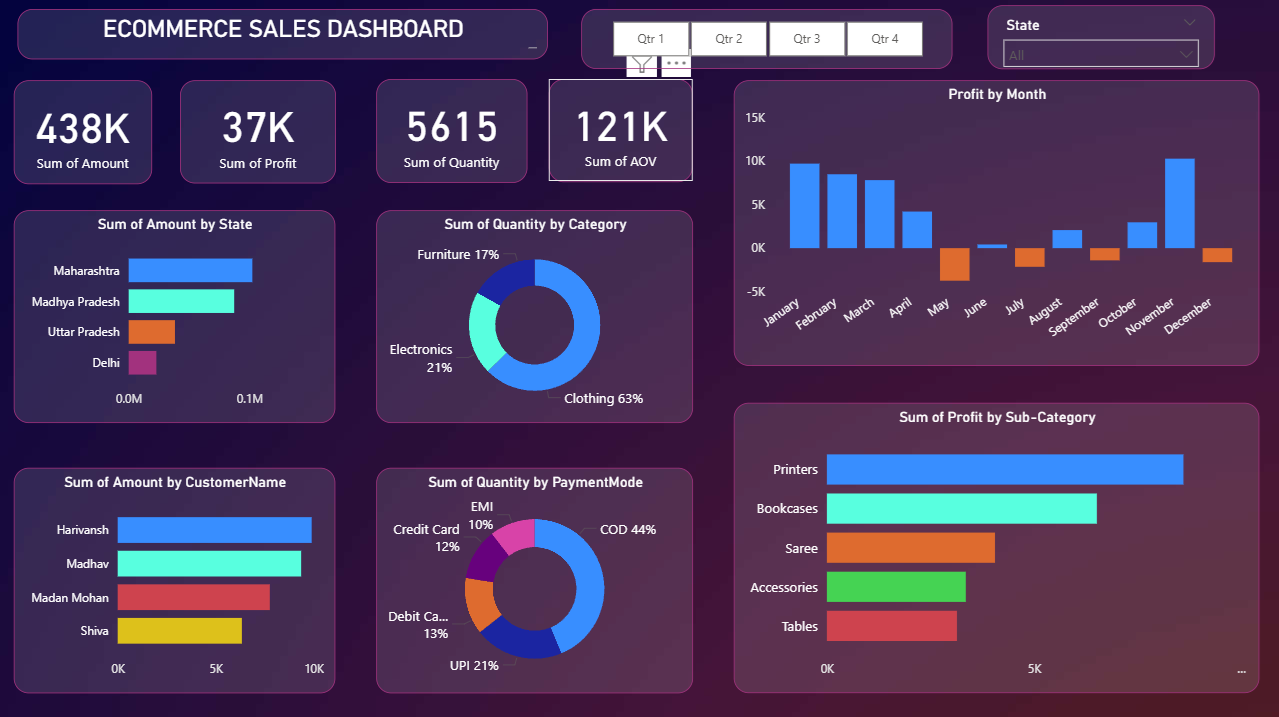

This screenshot's page, from the dashboard's own definition file:
{"tool":"powerbi","page":{"name":"Page 1","canvas":[1280,720],"ordinal":0},"visuals":[{"type":"columnChart","title":" Profit by Month","fields":{"Category":["Orders.Order Date.Variation.Date Hierarchy.Month"],"Y":["Details.Profit"]},"box":[734.3,81.4,525.7,285.7],"z":0},{"type":"barChart","fields":{"Category":["Details.Sub-Category"],"Y":["Details.Profit"]},"box":[734.3,404.3,525.7,290],"z":1000},{"type":"donutChart","fields":{"Category":["Details.Category"],"Y":["Details.Quantity"]},"box":[375.7,211.4,317.1,212.9],"z":2000},{"type":"donutChart","fields":{"Y":["Details.Quantity"],"Category":["Details.PaymentMode"]},"box":[375.7,468.6,317.1,225.7],"z":3000},{"type":"card","fields":{"Values":["Details.Amount"]},"box":[14.3,81.4,138.6,104.3],"z":4000},{"type":"card","fields":{"Values":["Details.Profit"]},"box":[180,81.4,155.7,102.9],"z":5000},{"type":"card","fields":{"Values":["Details.Quantity"]},"box":[375.7,80,151.4,104.3],"z":6000},{"type":"card","fields":{"Values":["Details.AOV"]},"box":[548.6,80,144.3,102.9],"z":7000},{"type":"barChart","fields":{"Category":["Orders.State"],"Y":["Details.Amount"]},"box":[14.3,211.4,321.4,212.9],"z":8000},{"type":"barChart","fields":{"Y":["Details.Amount"],"Category":["Orders.CustomerName"]},"box":[14.3,468.6,321.4,225.7],"z":9000},{"type":"textbox","title":"ECOMMERCE SALES DASHBOARD","box":[17.1,10,530,50],"z":10000},{"type":"slicer","fields":{"Values":["Orders.Order Date.Variation.Date Hierarchy.Quarter"]},"box":[581.4,10,371.4,60],"z":11000},{"type":"slicer","fields":{"Values":["Orders.State"]},"box":[987.1,5.7,227.1,64.3],"z":12000}]}

Visuals, with their boxes in screenshot pixels (x1, y1, x2, y2), scaled from the page's 1280x720 canvas onto the 1279x717 screenshot:
" Profit by Month" columnChart: bbox(734, 81, 1259, 366)
barChart - Details.Sub-Category x Details.Profit: bbox(734, 403, 1259, 691)
donutChart - Details.Category x Details.Quantity: bbox(375, 211, 692, 423)
donutChart - Details.Quantity x Details.PaymentMode: bbox(375, 467, 692, 691)
card - Details.Amount: bbox(14, 81, 153, 185)
card - Details.Profit: bbox(180, 81, 335, 184)
card - Details.Quantity: bbox(375, 80, 527, 184)
card - Details.AOV: bbox(548, 80, 692, 182)
barChart - Orders.State x Details.Amount: bbox(14, 211, 335, 423)
barChart - Details.Amount x Orders.CustomerName: bbox(14, 467, 335, 691)
"ECOMMERCE SALES DASHBOARD" textbox: bbox(17, 10, 547, 60)
slicer - Orders.Order Date.Variation.Date Hierarchy.Quarter: bbox(581, 10, 952, 70)
slicer - Orders.State: bbox(986, 6, 1213, 70)
